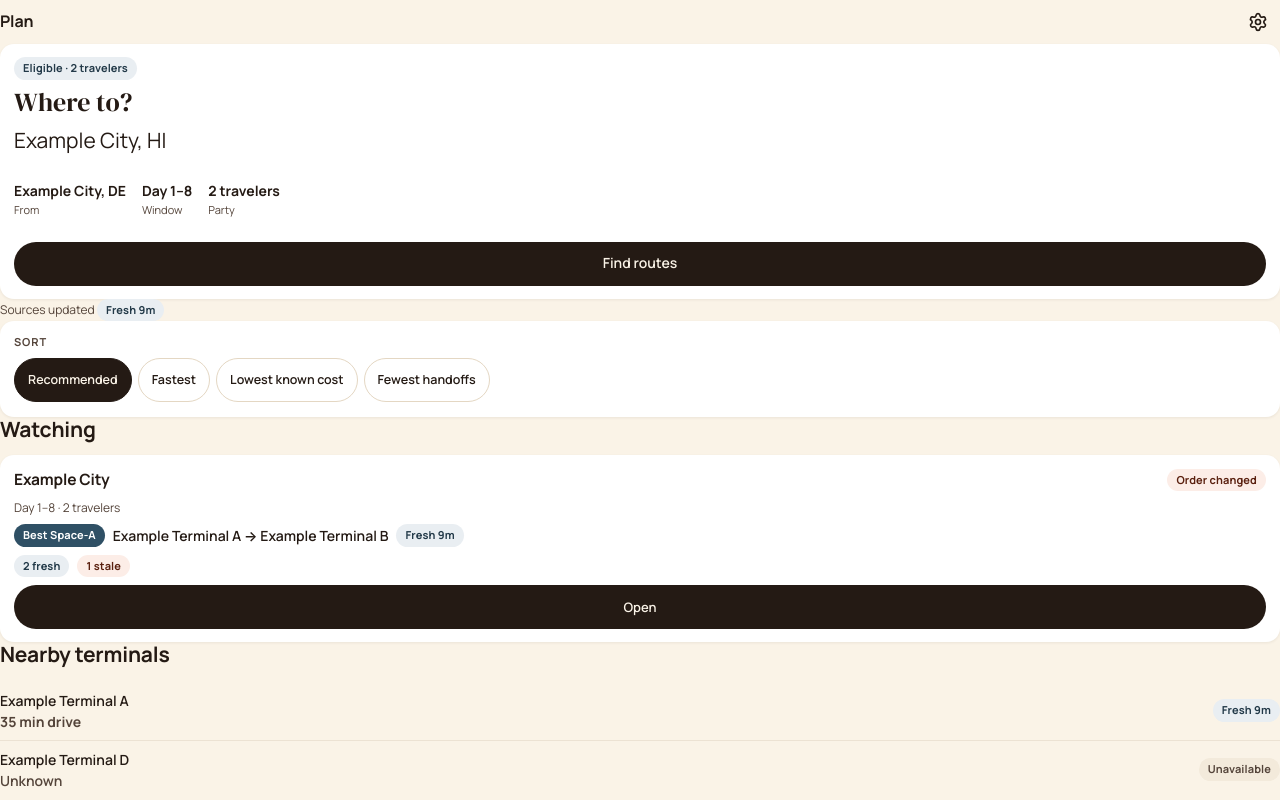
Test: TripSettingsSheet › an unset limit shows no bar rather than a zero bar
This screenshot has width=1280, height=800.
Click the button named "Trip settings" at (1258, 22), box [1236, 0, 1279, 44]
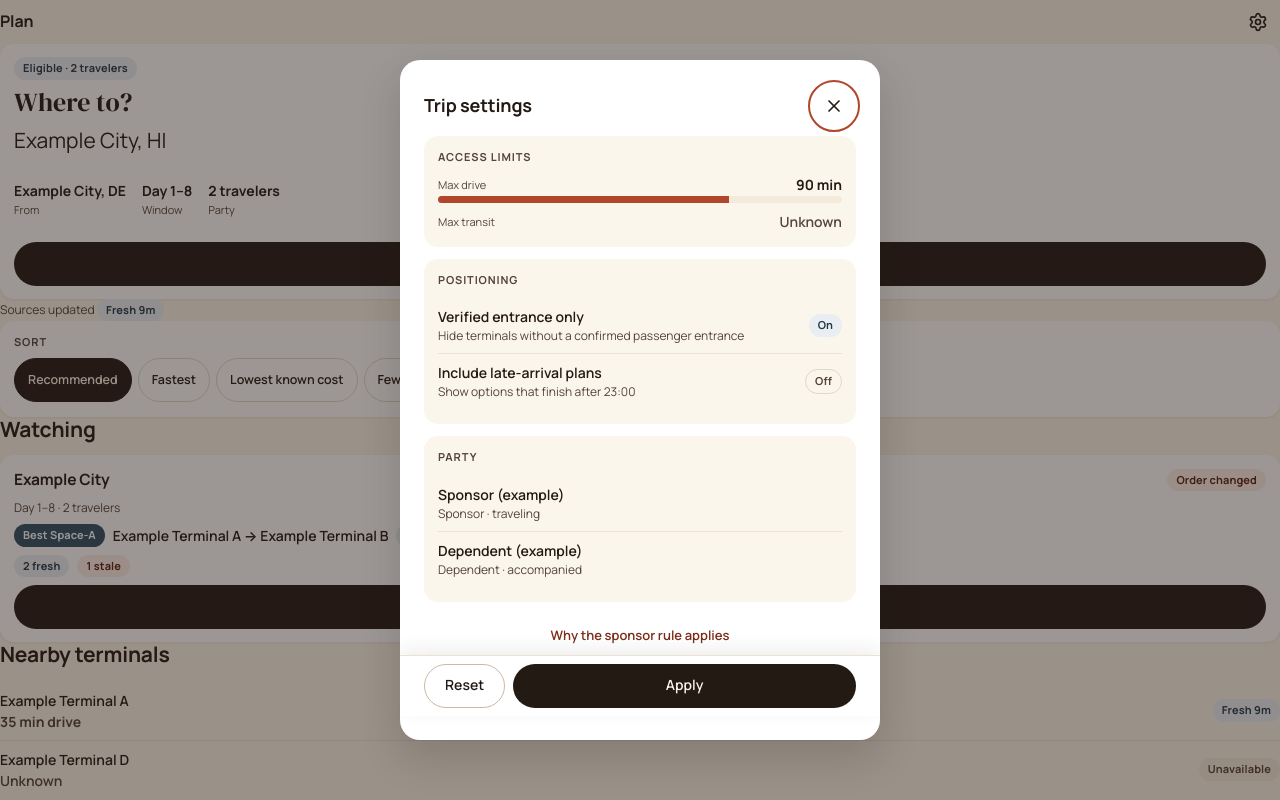
Now the progress indicator named "Max drive" is shown, box [438, 196, 842, 203]
Now the text "Unknown" is shown, box [780, 212, 842, 231]
